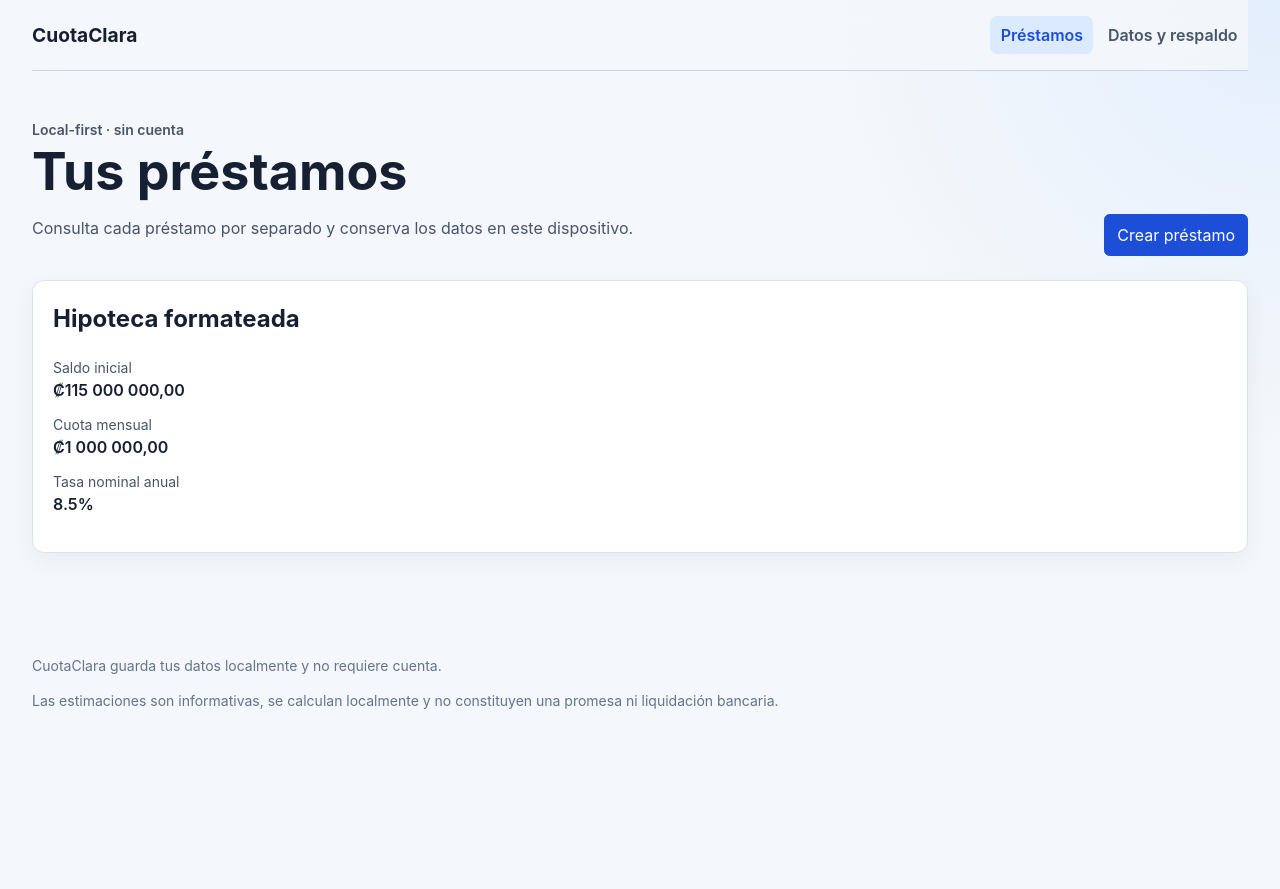
Test case: App › muestra importes grandes formateados y el resumen financiero contractual
Click the button with aria-label "Abrir préstamo Hipoteca formateada": (640, 537) [32,280,1248,553]
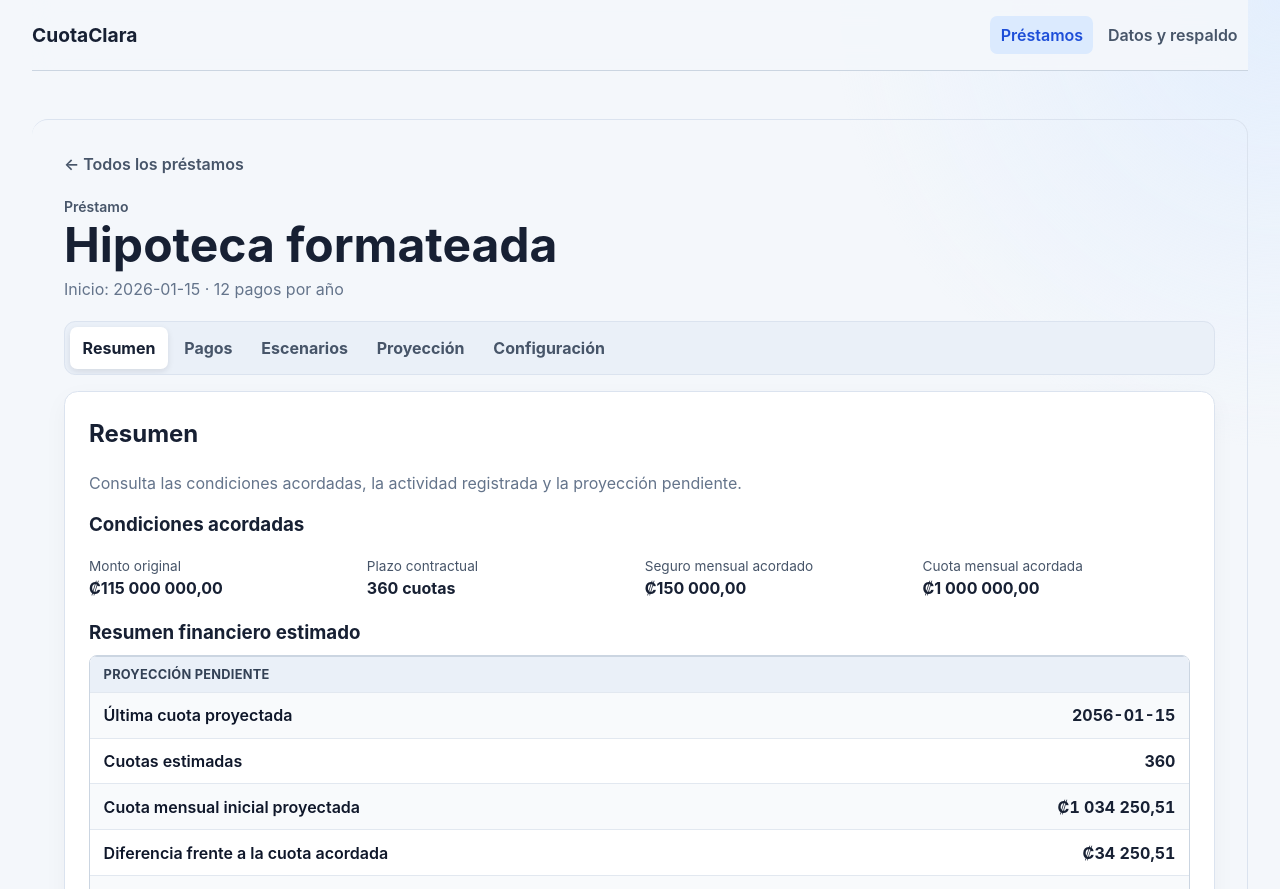
Result: the heading "Resumen financiero estimado" is shown at [89,621,360,644]
Result: the column heading "Última cuota proyectada" is shown at [90,692,808,738]
Result: the text "Cuota mensual acordada" is shown at [922,558,1083,574]
Click the tab "Proyección": (421, 348) [364,327,477,369]
(page scrolled)
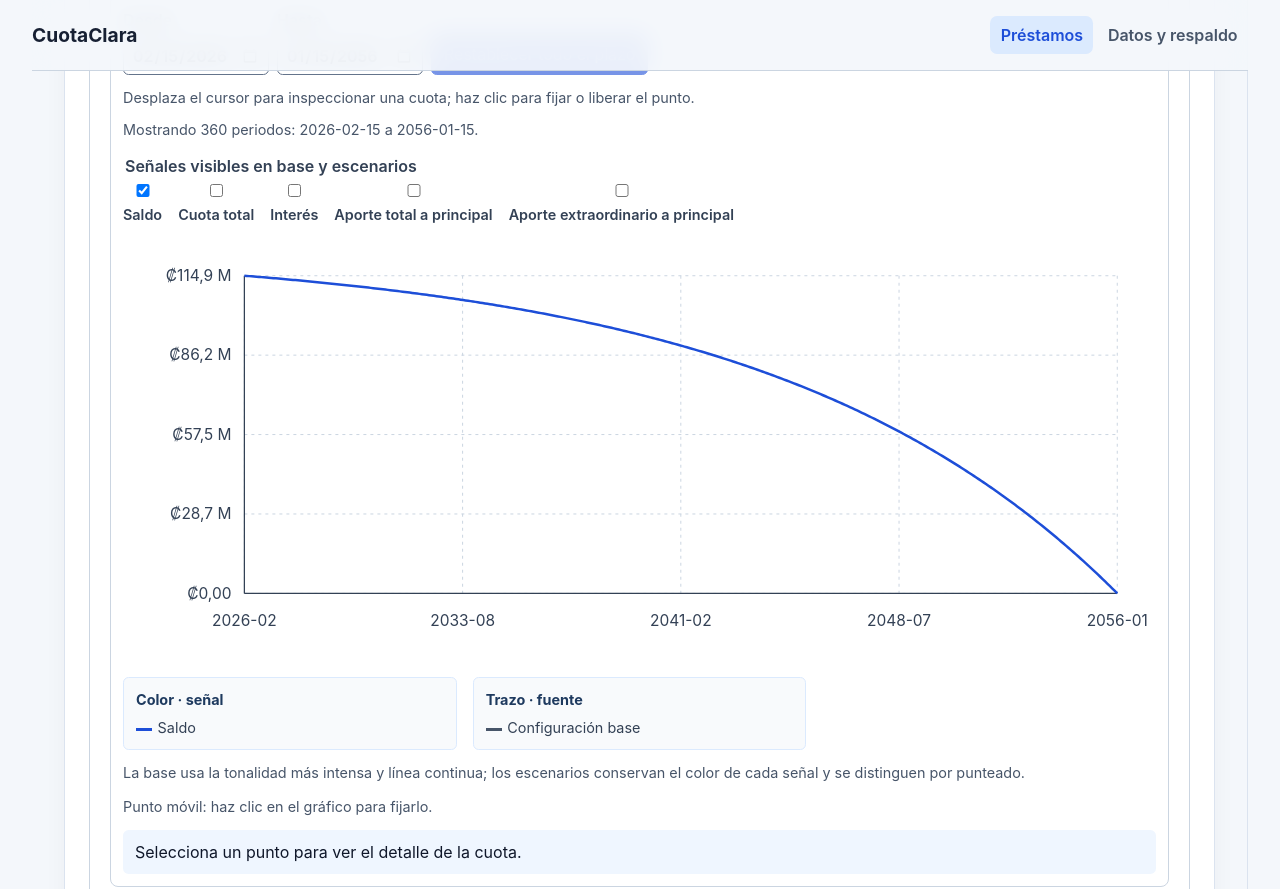
Result: the picture named "Evolución estimada del saldo" is shown at [123,237,1156,664]
